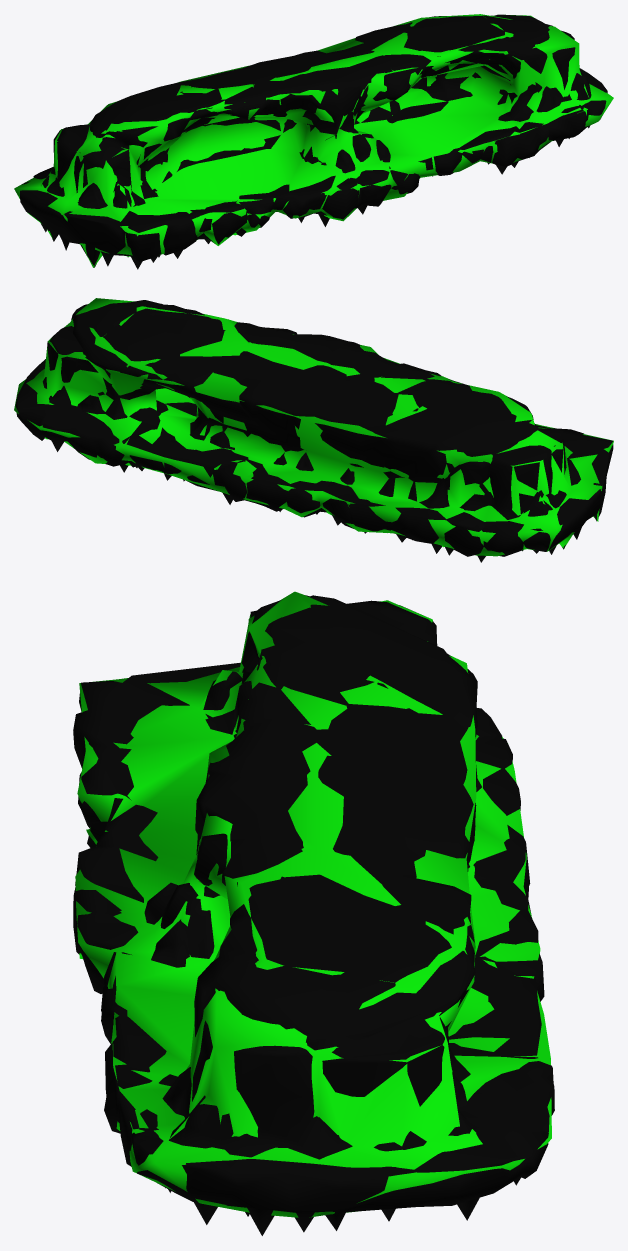
Rendered from Final-Tunnel01.fbx.
The picture shows the model from 3 angles, top to bottom: view 1: azimuth 30°, elevation 25°; view 2: azimuth 150°, elevation 25°; view 3: azimuth 270°, elevation 25°; orthographic projection. The views are drawn at different scales.
Visible parts, largest first — view 1: defaultobject, UTM_rock; view 2: defaultobject, UTM_rock; view 3: defaultobject, UTM_rock.
Boxes of the visible parts, x1,y1,x2,y2 form: defaultobject: [20, 14, 607, 269]; UTM_rock: [14, 14, 613, 267]; defaultobject: [15, 300, 613, 562]; UTM_rock: [14, 298, 613, 556]; defaultobject: [73, 595, 554, 1235]; UTM_rock: [75, 591, 551, 1217].
Bounding box in the file's own units: 1916 × 422 × 744.
